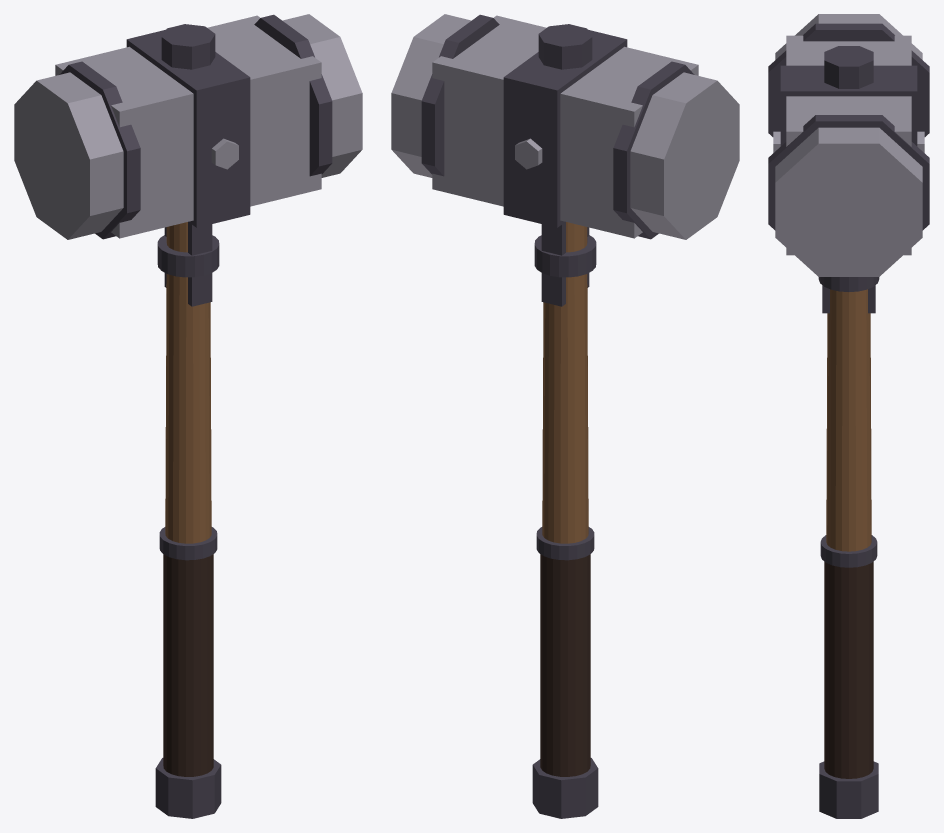
The model's file is Hammer.ready.glb.
3 renders of one model, left to right at view 1: azimuth 30°, elevation 25°; view 2: azimuth 150°, elevation 25°; view 3: azimuth 270°, elevation 25°, orthographic. The views are drawn at different scales.
Parts seen in each view (by area): view 1: Hammer; view 2: Hammer; view 3: Hammer.
Boxes of the visible parts, x1=… form: Hammer: x1=14, y1=14, x2=362, y2=818; Hammer: x1=391, y1=14, x2=739, y2=818; Hammer: x1=768, y1=14, x2=929, y2=818.
Bounding box in the file's own units: 1.62 × 4.37 × 0.85.
1 material, 1 textured.
